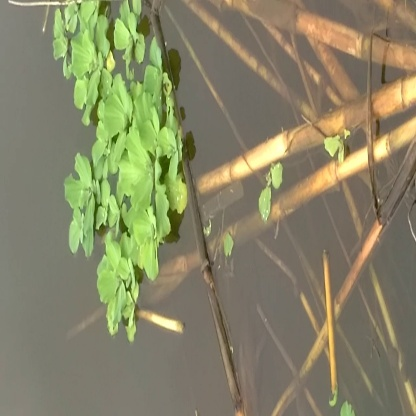grass: (62, 34, 176, 311)
